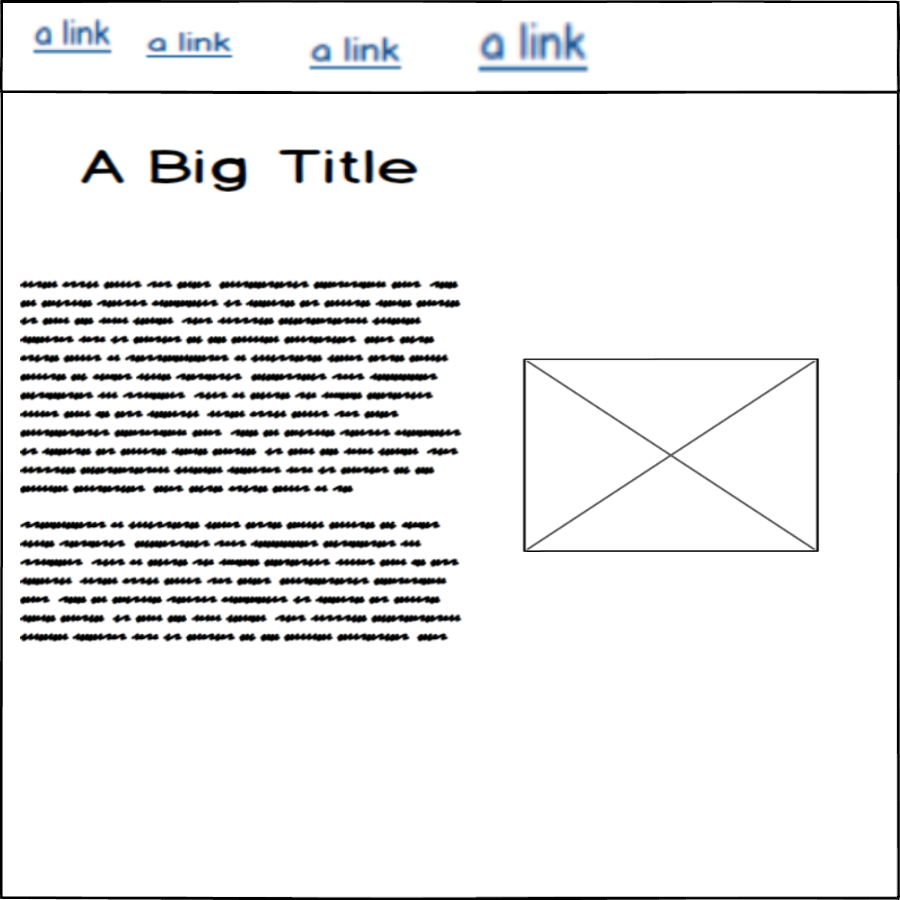h1: (75, 137, 437, 196)
image: (518, 355, 827, 560)
navlink: (479, 18, 594, 75), (301, 32, 411, 77), (28, 10, 119, 62), (139, 26, 237, 66)
p: (16, 271, 472, 645)
